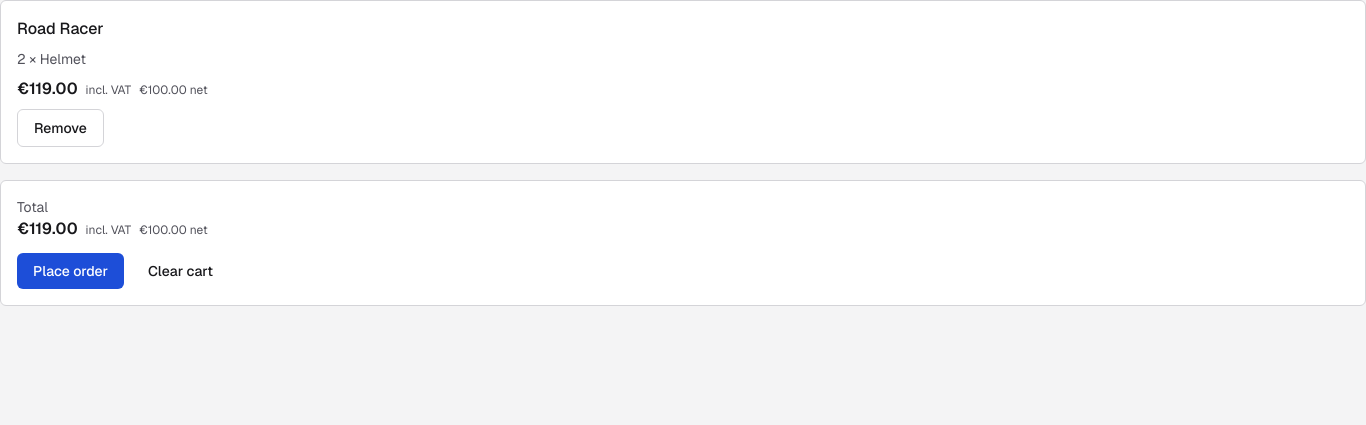
Test: checkout result › lists the shortfall with requested and available
Click the button "Place order": (70, 271) [17,253,124,289]
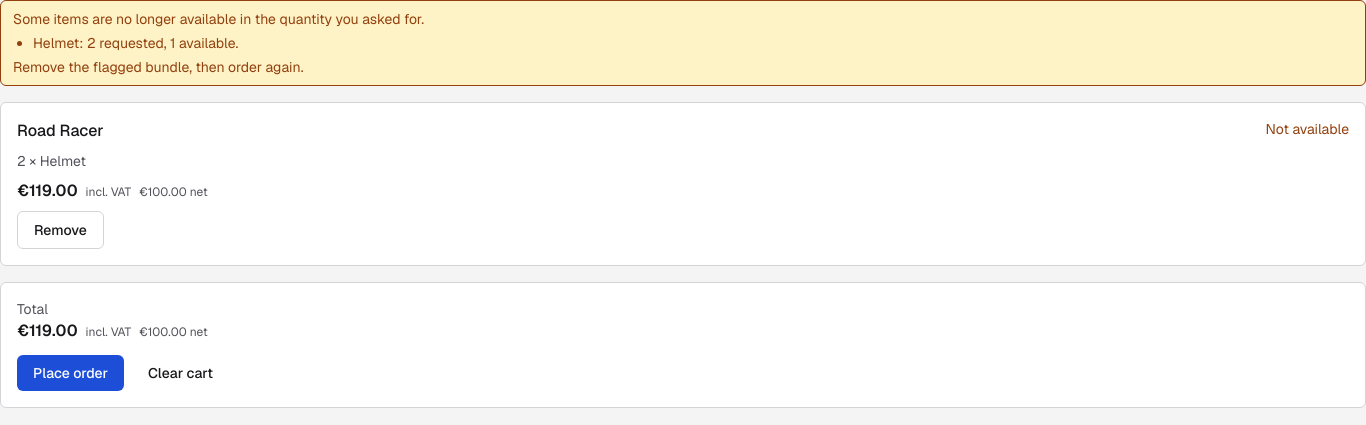
Check: the list item "Helmet: 2 requested, 1 available." is shown, box [33,34,238,52]
Check: the text "Not available" is shown, box [1266,119,1349,139]
